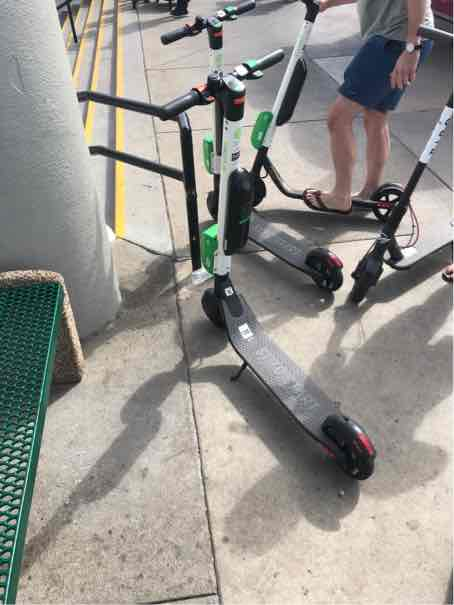scooter: (150, 47, 379, 484), (157, 1, 348, 295), (237, 1, 411, 225)
